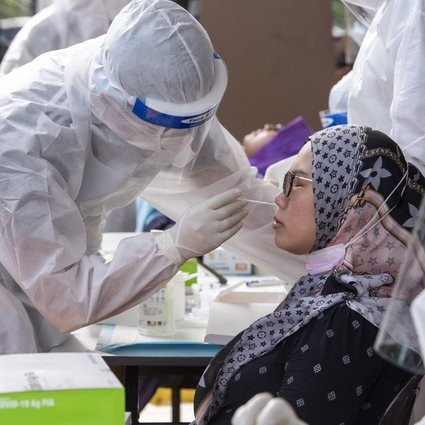Coverall: (1, 1, 272, 344)
Face_Shield: (119, 52, 231, 188)
Gloves: (159, 182, 256, 263)
mask_weared_incorrect: (270, 137, 347, 275)
